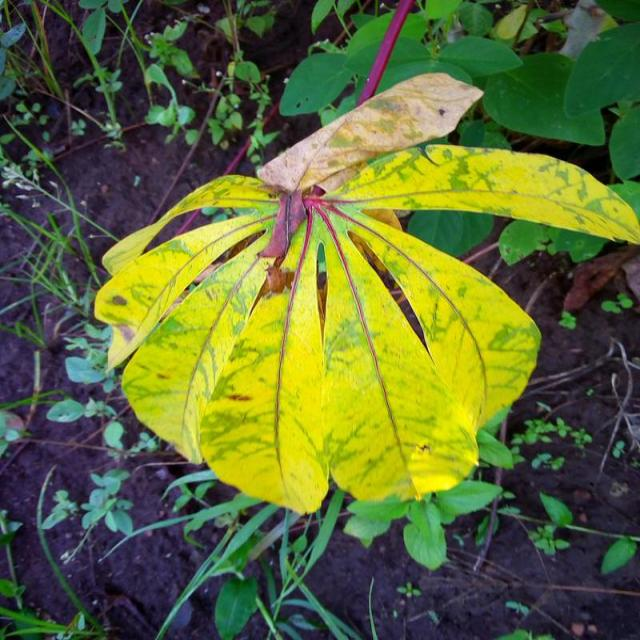cassava leaf: (92, 70, 638, 516)
